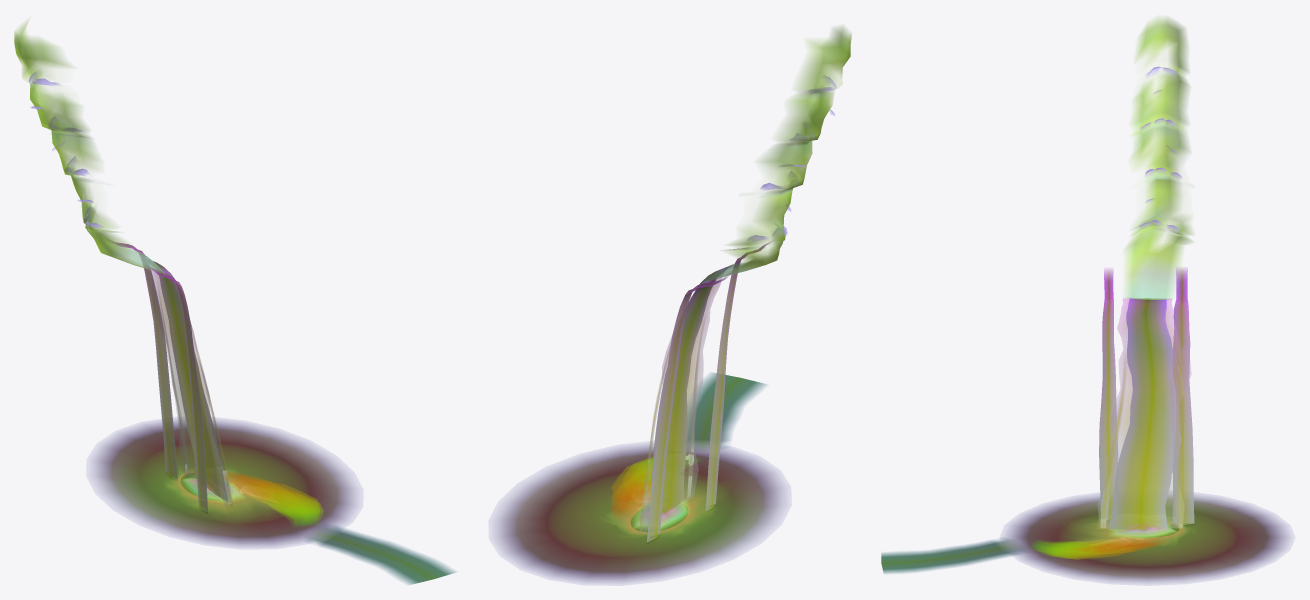
The model's file is falls_water_low.glb.
3 views of the same model, side by side, from view 1: azimuth 30°, elevation 25°; view 2: azimuth 150°, elevation 25°; view 3: azimuth 270°, elevation 25° (orthographic). The views are drawn at different scales.
Visible parts, largest first — view 1: W_falls_pool, W_falls_cascade, W_falls_plunge_2, W_falls_plunge_1, W_falls_foam, W_falls_plunge_0, W_falls_outlet; view 2: W_falls_pool, W_falls_cascade, W_falls_plunge_2, W_falls_plunge_1, W_falls_plunge_0, W_falls_foam, W_falls_outlet; view 3: W_falls_pool, W_falls_cascade, W_falls_plunge_1, W_falls_plunge_0, W_falls_plunge_2, W_falls_foam, W_falls_outlet.
Part boxes in pixels (left/top/right/bottom): W_falls_pool: left=91, top=419, right=358, bottom=547; W_falls_cascade: left=14, top=20, right=164, bottom=274; W_falls_plunge_2: left=111, top=241, right=233, bottom=512; W_falls_plunge_1: left=147, top=260, right=228, bottom=507; W_falls_foam: left=166, top=469, right=323, bottom=525; W_falls_plunge_0: left=144, top=258, right=227, bottom=501; W_falls_outlet: left=306, top=525, right=455, bottom=584; W_falls_pool: left=493, top=443, right=786, bottom=583; W_falls_cascade: left=701, top=26, right=851, bottom=283; W_falls_plunge_2: left=639, top=242, right=770, bottom=542; W_falls_plunge_1: left=643, top=269, right=725, bottom=534; W_falls_plunge_0: left=648, top=267, right=727, bottom=523; W_falls_foam: left=608, top=456, right=713, bottom=536; W_falls_outlet: left=687, top=373, right=766, bottom=450; W_falls_pool: left=1004, top=494, right=1290, bottom=583; W_falls_cascade: left=1124, top=17, right=1193, bottom=299; W_falls_plunge_1: left=1097, top=298, right=1191, bottom=528; W_falls_plunge_0: left=1109, top=298, right=1176, bottom=529; W_falls_plunge_2: left=1097, top=268, right=1194, bottom=529; W_falls_foam: left=1032, top=520, right=1188, bottom=559; W_falls_outlet: left=881, top=538, right=1026, bottom=573.
Bounding box in the file's own units: 23.99 × 36.37 × 31.13.
